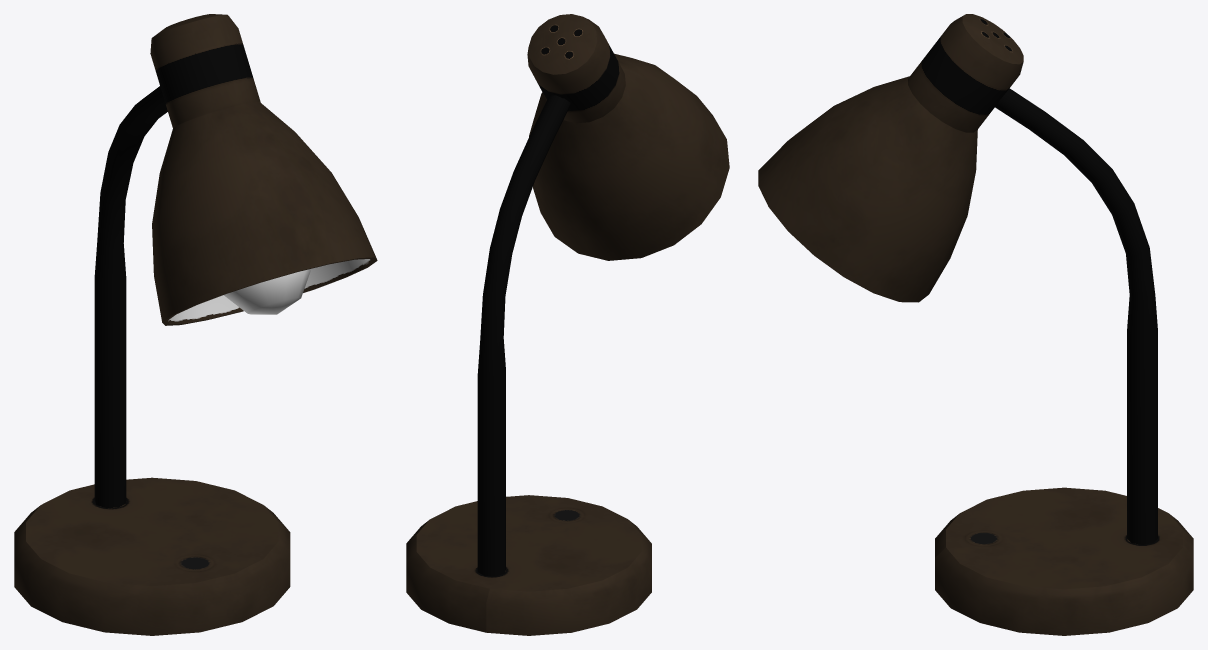
Rendered from LampDesk.FBX.
3 renders of one model, left to right at view 1: azimuth 30°, elevation 25°; view 2: azimuth 150°, elevation 25°; view 3: azimuth 270°, elevation 25°, orthographic. The views are drawn at different scales.
Parts seen in each view (by area): view 1: LampDesk, Bulb; view 2: LampDesk; view 3: LampDesk.
Boxes of the visible parts, box(x1,y1,x2,y2) form: LampDesk: box(14, 14, 377, 635); Bulb: box(224, 269, 310, 314); LampDesk: box(406, 14, 729, 635); LampDesk: box(758, 14, 1193, 635).
Size of the model in its own units: 6.69 by 15.77 by 11.09.
